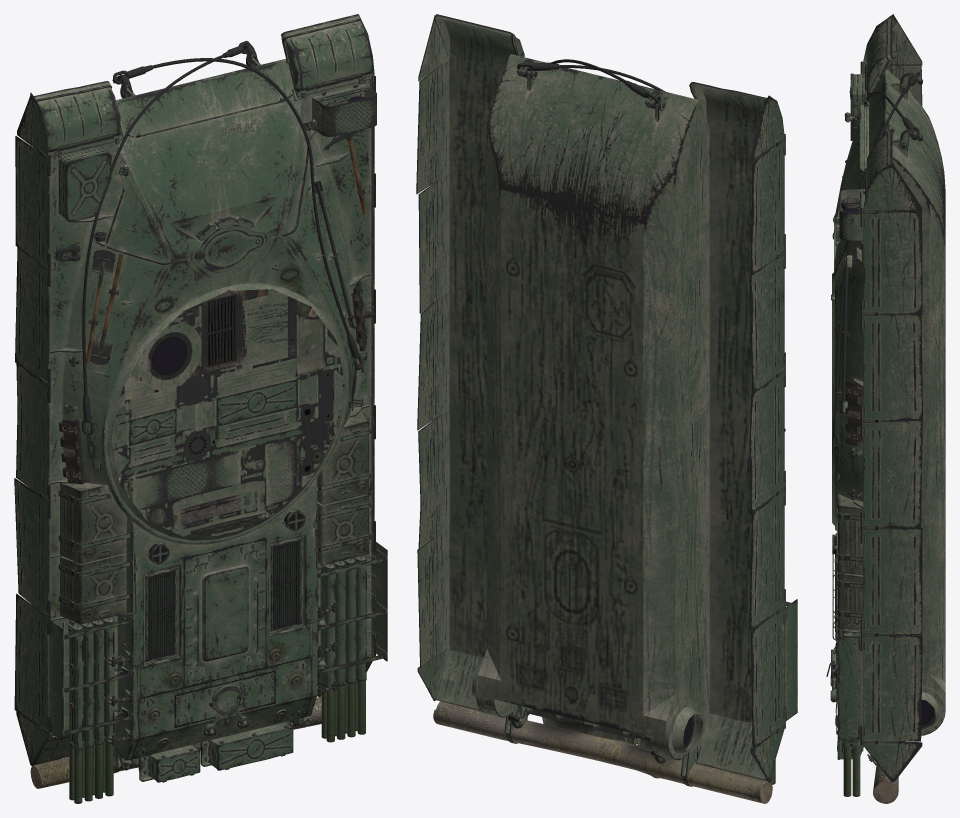
File: Hull.glb
3 views of the same model, side by side, from view 1: azimuth 30°, elevation 25°; view 2: azimuth 150°, elevation 25°; view 3: azimuth 270°, elevation 25° (orthographic). The views are drawn at different scales.
Visible parts, largest first — view 1: set_0_group_0; view 2: set_0_group_0; view 3: set_0_group_0.
Boxes of the visible parts, x1,y1,x2,y2 form: set_0_group_0: (14,14,387,803); set_0_group_0: (416,14,797,803); set_0_group_0: (826,14,945,803).
Bounding box in the file's own units: 3.56 × 7.2 × 1.21.
Materials: 1 (1 with a texture image).
